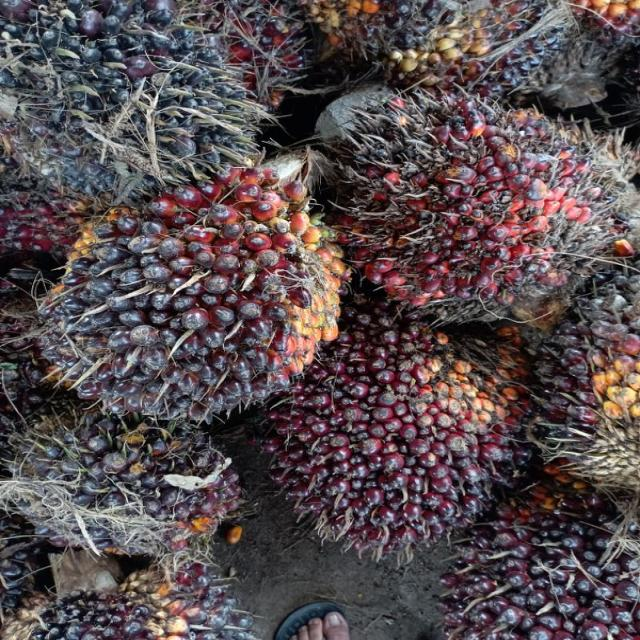fraksi 00: (0, 0, 257, 188), (12, 412, 242, 547)
fraksi 1: (44, 166, 344, 426), (280, 312, 524, 558)
fraksi 3: (341, 90, 640, 316)
